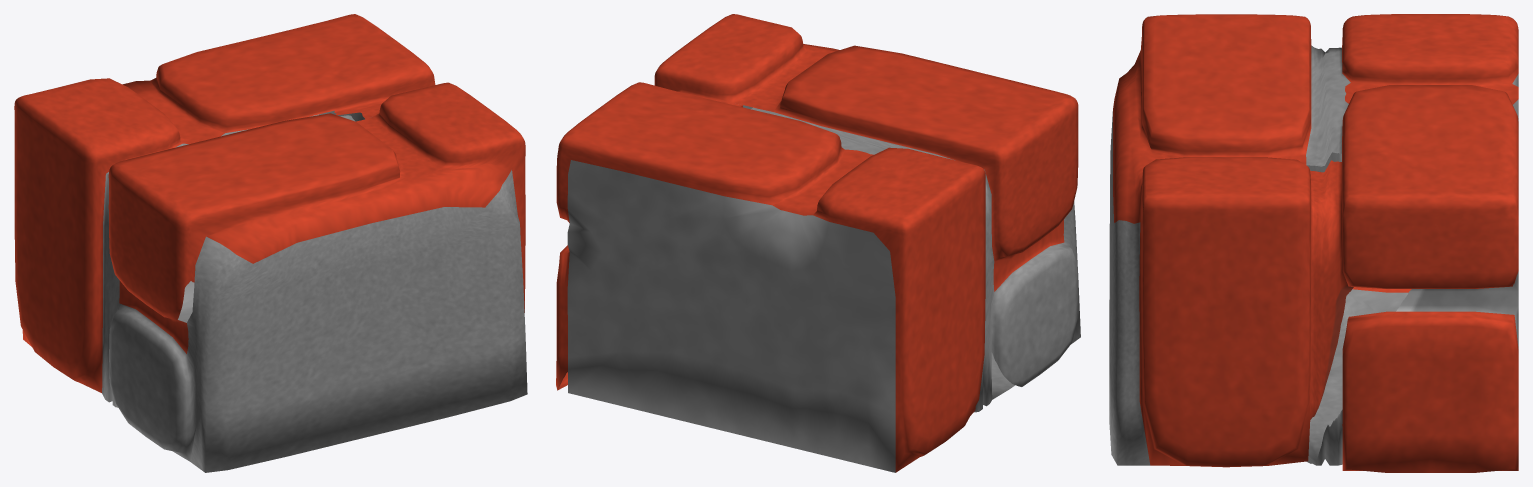
Rendered from brick-wall.obj.
3 renders of one model, left to right at view 1: azimuth 30°, elevation 25°; view 2: azimuth 150°, elevation 25°; view 3: azimuth 270°, elevation 25°, orthographic. The views are drawn at different scales.
Visible parts, largest first — view 1: Cube; view 2: Cube; view 3: Cube.
Part boxes in pixels (x1,y1,x2,y2): Cube: (14, 14, 527, 472); Cube: (556, 14, 1080, 472); Cube: (1109, 14, 1518, 472).
Bounding box in the file's own units: 2.16 × 1.48 × 2.
1 material, 1 textured.
